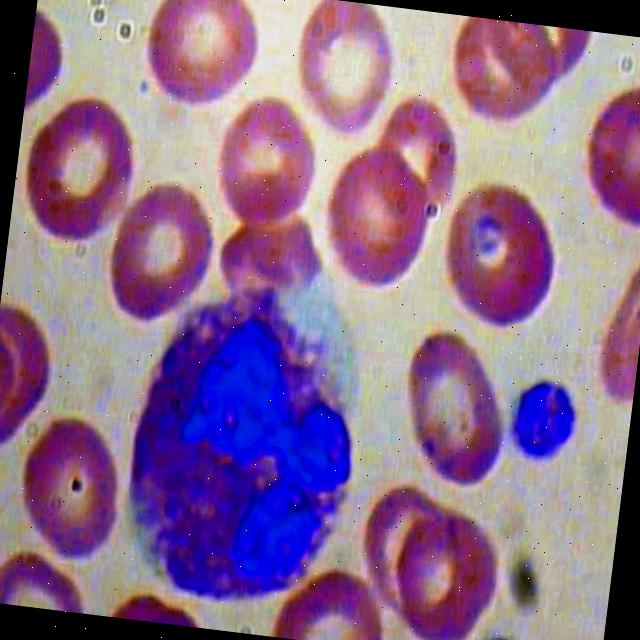Platelets: (501, 368, 596, 477), (474, 631, 526, 640)
RBC: (431, 168, 571, 336), (307, 141, 447, 309), (382, 328, 520, 497), (8, 402, 138, 570), (11, 90, 141, 253), (94, 178, 224, 341), (382, 499, 512, 640), (206, 93, 326, 240), (287, 0, 403, 147), (138, 0, 267, 131), (436, 14, 558, 140), (574, 69, 640, 233), (20, 0, 74, 140)
WBC: (98, 272, 381, 618)
